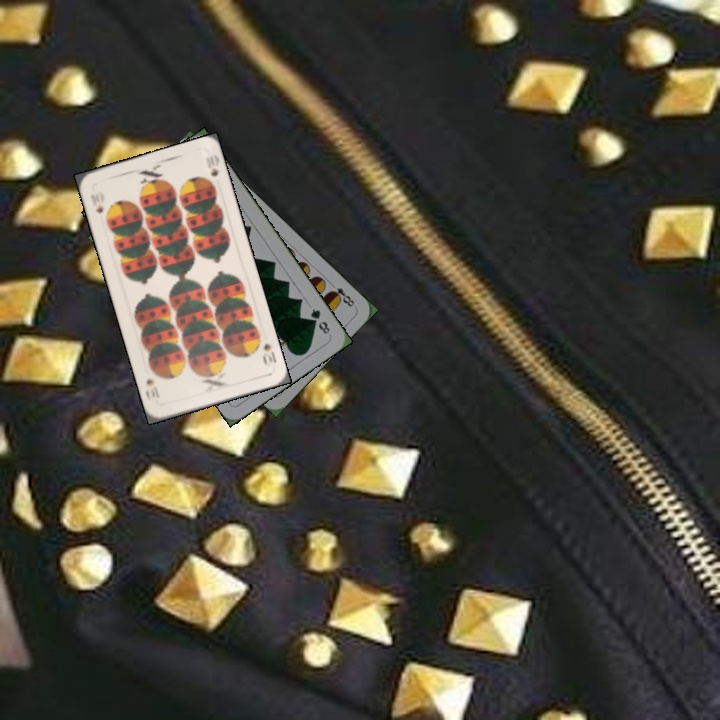E8: (326, 278, 358, 310)
G8: (306, 304, 333, 337)
S10: (258, 339, 279, 369), (86, 189, 106, 216)
